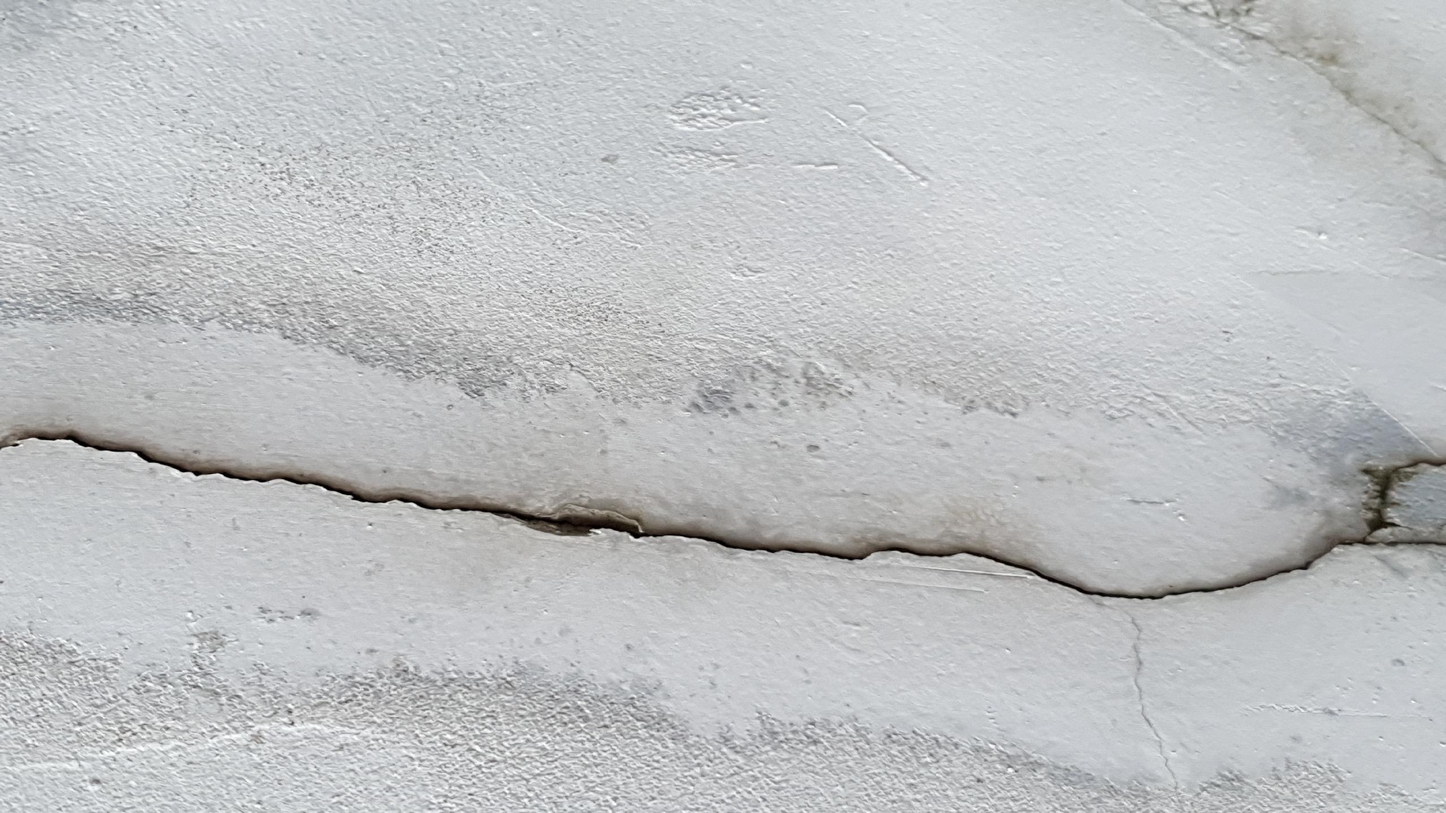crack: (1, 424, 1445, 601)
